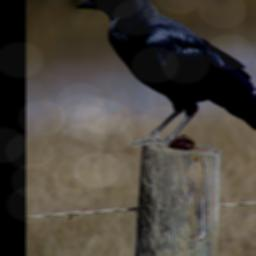Crow: (73, 0, 256, 151)
